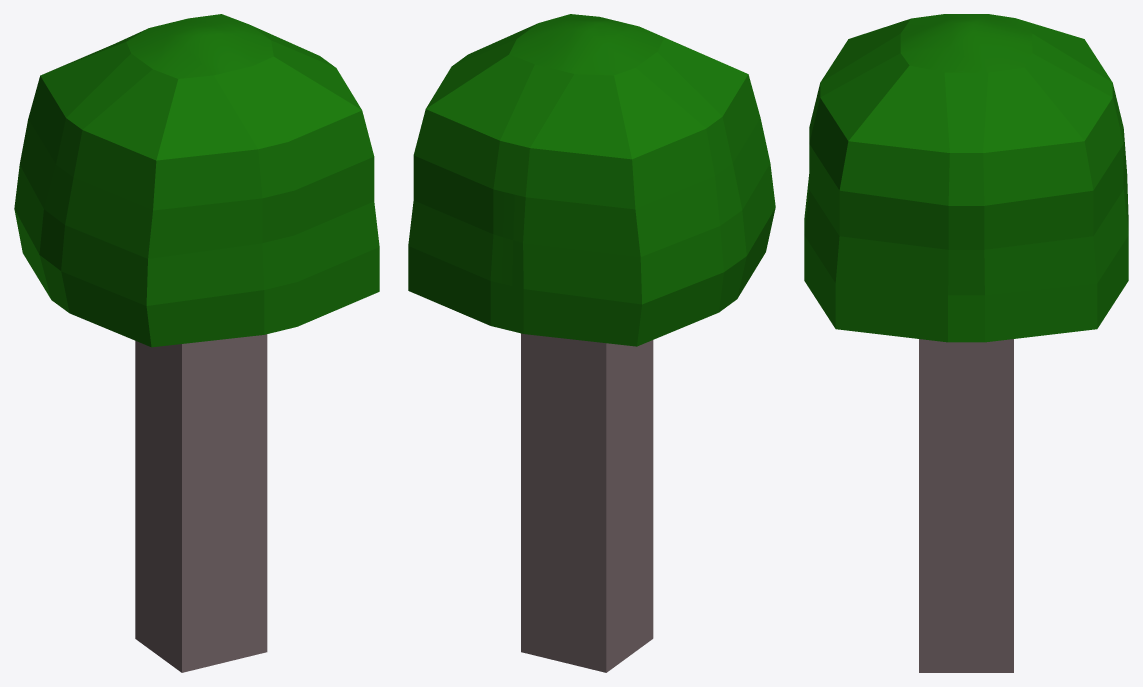
The model's file is tree1.FBX.
The picture shows the model from 3 angles, left to right: view 1: azimuth 30°, elevation 25°; view 2: azimuth 150°, elevation 25°; view 3: azimuth 270°, elevation 25°; orthographic projection.
Visible parts, largest first — view 1: tree1; view 2: tree1; view 3: tree1.
Boxes of the visible parts, x1,y1,x2,y2 form: tree1: (14, 14, 379, 672); tree1: (408, 14, 775, 672); tree1: (804, 14, 1128, 672).
Size of the model in its own units: 68.47 by 139 by 64.98.
